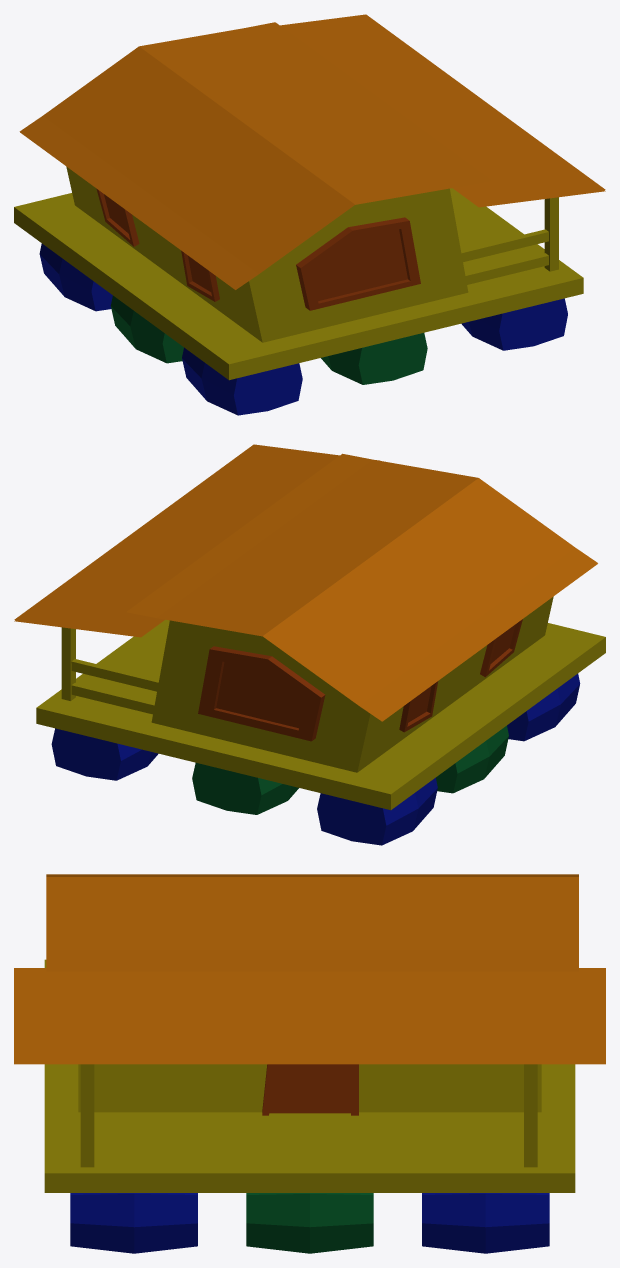
Rendered from 07.11.2026_Bubuia_flutuante4-0.fbx.
3 views of the same model, one above another, from view 1: azimuth 30°, elevation 25°; view 2: azimuth 150°, elevation 25°; view 3: azimuth 270°, elevation 25° (orthographic). The views are drawn at different scales.
Parts seen in each view (by area): view 1: Cube.020; view 2: Cube.020; view 3: Cube.020.
Part boxes in pixels (x1=…): Cube.020: x1=14, y1=14, x2=605, y2=415; Cube.020: x1=14, y1=444, x2=605, y2=845; Cube.020: x1=14, y1=874, x2=605, y2=1253.
Bounding box in the file's own units: 14.35 × 7.51 × 16.35.
